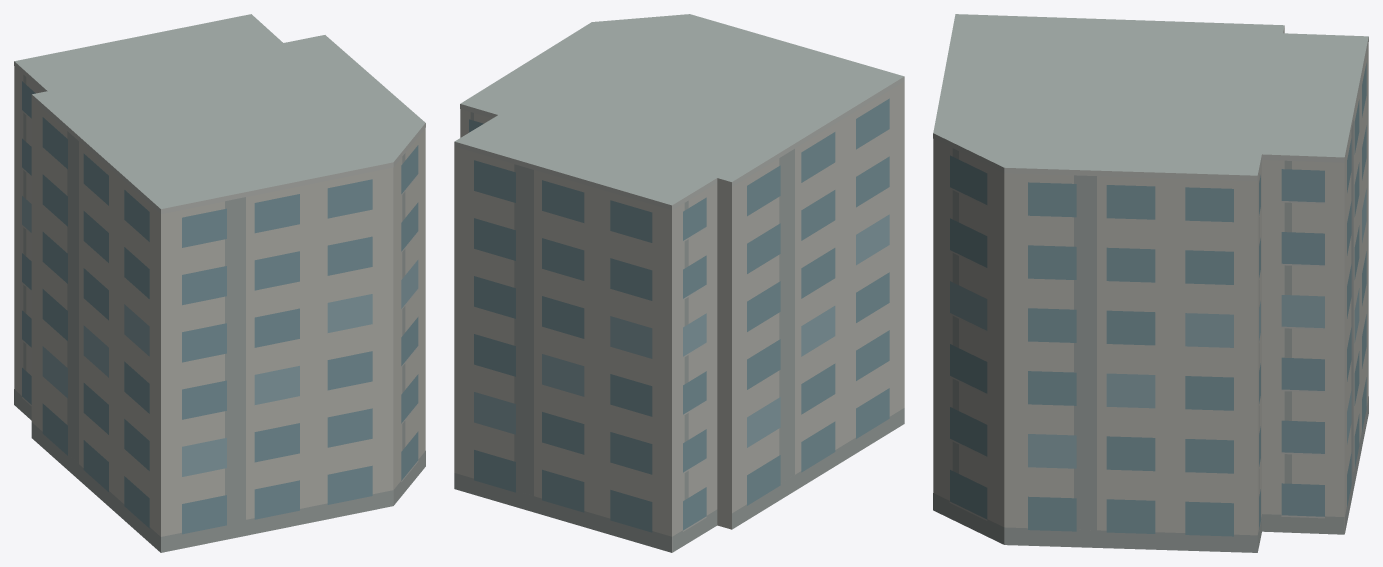
The model's file is survey-upis-32837649.glb.
3 renders of one model, left to right at view 1: azimuth 30°, elevation 25°; view 2: azimuth 150°, elevation 25°; view 3: azimuth 270°, elevation 25°, orthographic. The views are drawn at different scales.
Parts seen in each view (by area): view 1: survey-upis-32837649.tmp; view 2: survey-upis-32837649.tmp; view 3: survey-upis-32837649.tmp.
Boxes of the visible parts, x1,y1,x2,y2 form: survey-upis-32837649.tmp: (14, 14, 425, 552); survey-upis-32837649.tmp: (454, 14, 904, 552); survey-upis-32837649.tmp: (933, 14, 1368, 552).
Bounding box in the file's own units: 15.5 × 16.85 × 17.64.
